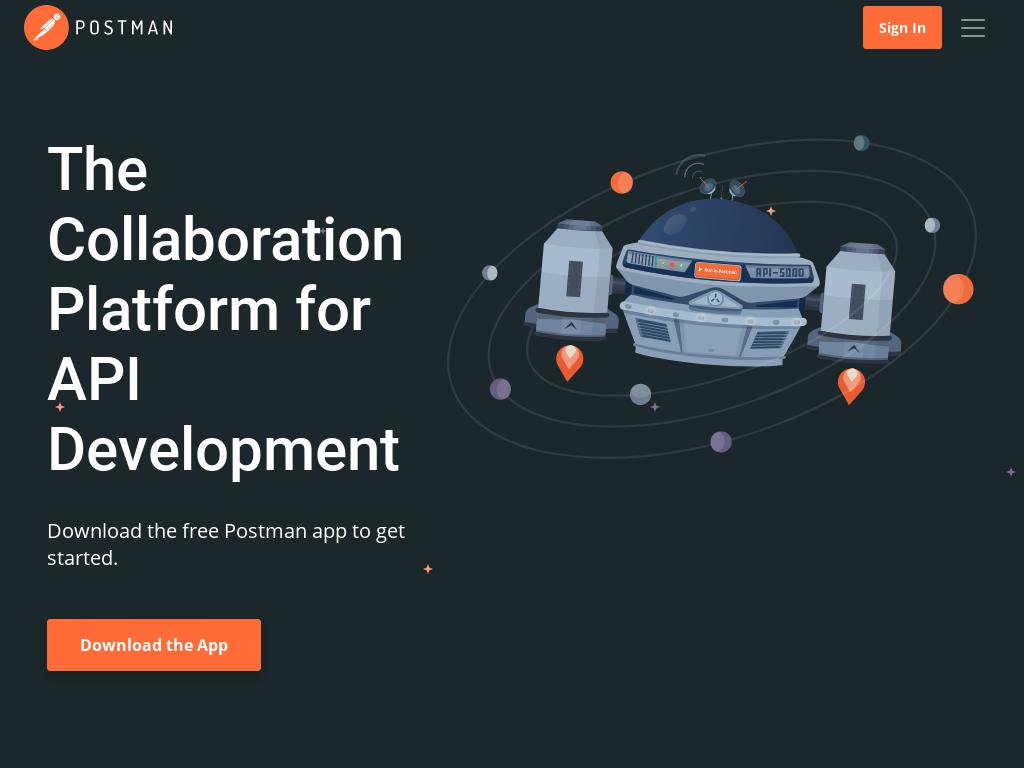button: (47, 619, 261, 671), (24, 0, 189, 55), (863, 6, 942, 49), (946, 8, 1000, 47)
heading: (47, 135, 417, 485)
image: (447, 135, 977, 459), (24, 5, 173, 50), (958, 12, 988, 43)
text: (47, 517, 417, 571)
